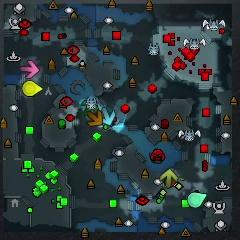p2: (187, 193, 207, 207)
p4: (23, 81, 43, 96)
x1: (21, 60, 39, 78)
x2: (160, 169, 178, 188)
x3: (102, 107, 115, 126)
x4: (82, 100, 98, 114)
x5: (87, 110, 102, 126)
